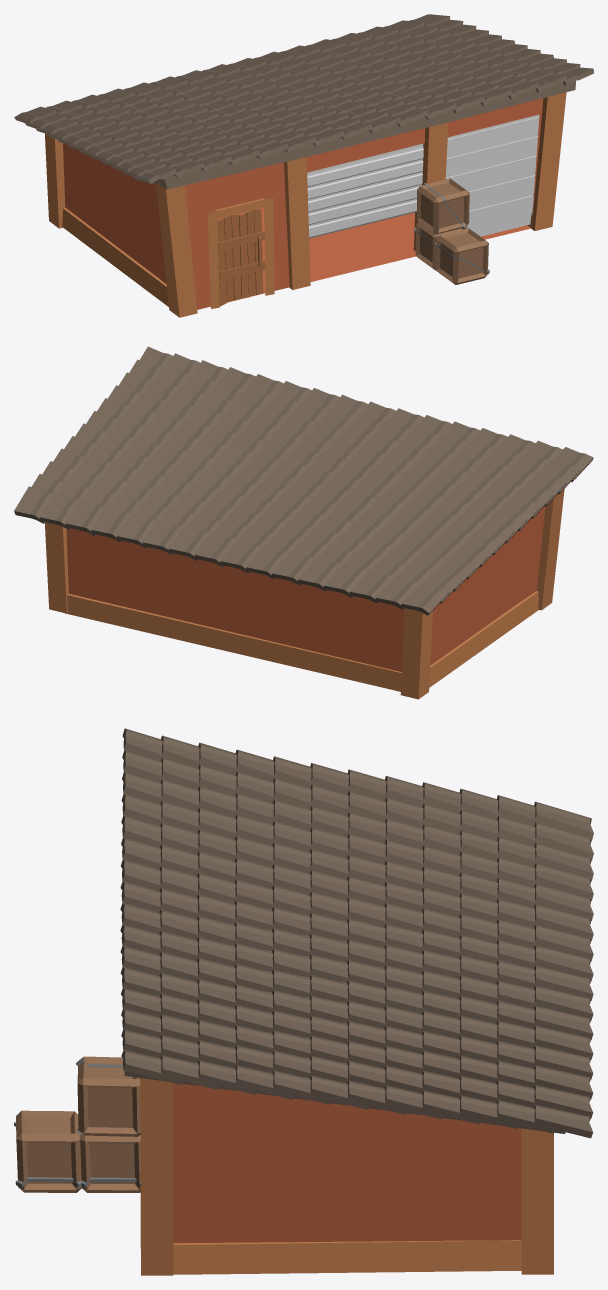
Rendered from Gudang.fbx.
3 views of the same model, one above another, from view 1: azimuth 30°, elevation 25°; view 2: azimuth 150°, elevation 25°; view 3: azimuth 270°, elevation 25° (orthographic). The views are drawn at different scales.
Parts seen in each view (by area): view 1: base storage.001; view 2: base storage.001; view 3: base storage.001.
Boxes of the visible parts, bbox=[...] form: base storage.001: bbox=[14, 14, 593, 317]; base storage.001: bbox=[14, 346, 593, 699]; base storage.001: bbox=[14, 728, 593, 1275].
Size of the model in its own units: 1154 by 387 by 832.
